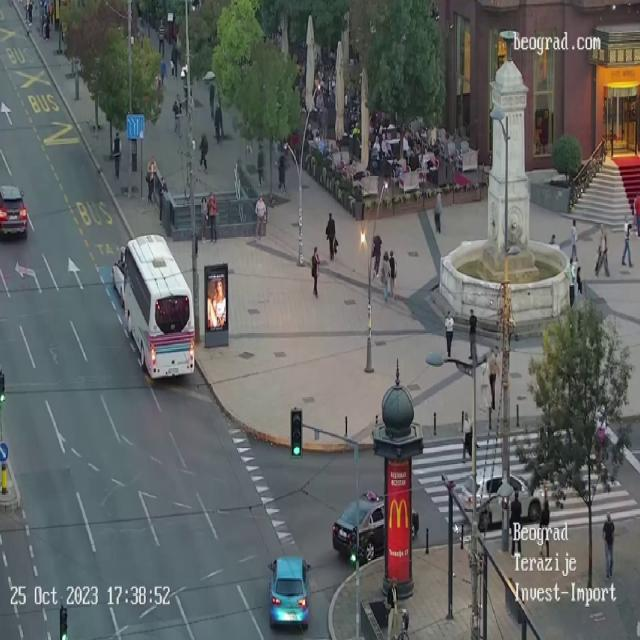bus: (112, 233, 195, 380)
car: (331, 493, 421, 556), (268, 555, 310, 630), (0, 183, 28, 239)
